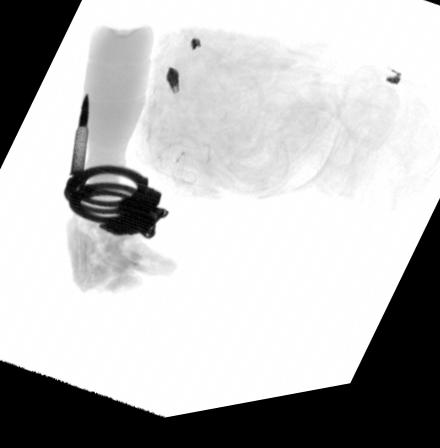Bullet: (71, 95, 89, 179)
HandCuffs: (63, 168, 170, 245)
